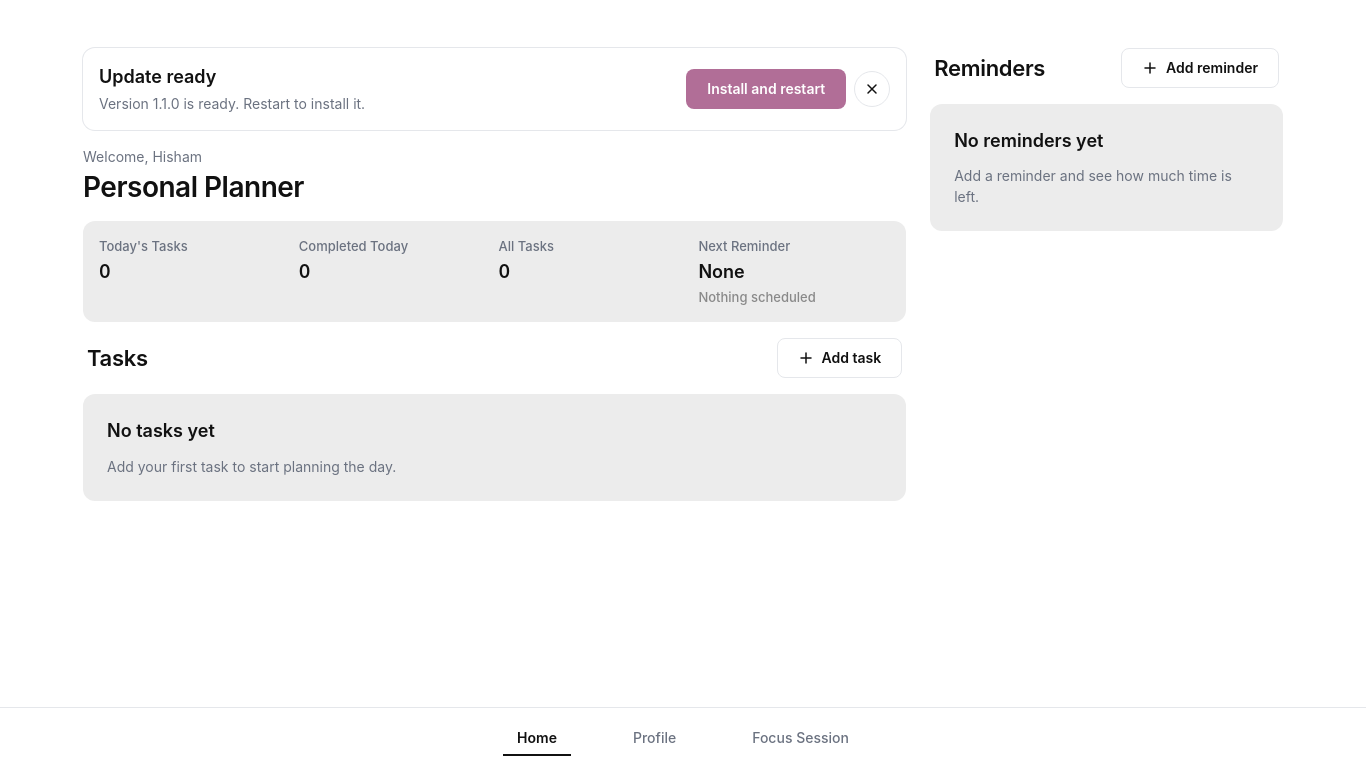
Test: update banner › is above the welcome band on Home, and on no other view
Expected: the heading "Personal Planner" is shown, [83,170,304,204]
Expected: the message shows "Update ready", [99,66,216,87]
Click the button "Profile" at (655, 738), box [619,720,690,756]
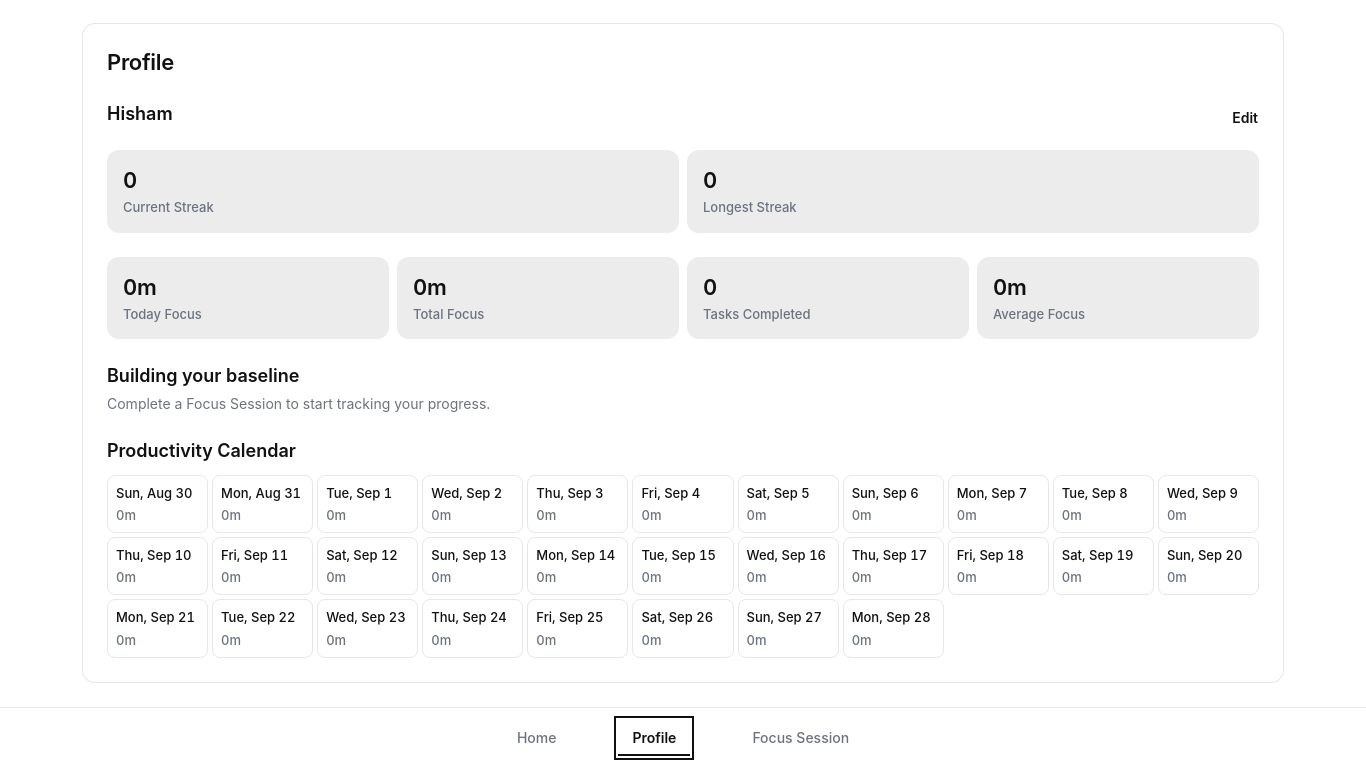
Result: the message "Update ready Version 1.1.0 is ready. Restart to install it. Install and restart" is gone
